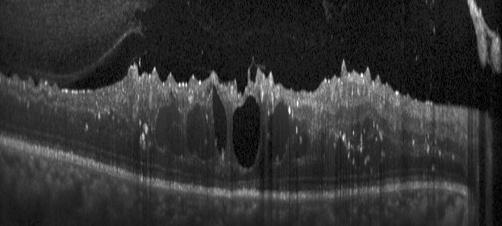intraretinal_cyst: (232, 95, 260, 168), (156, 91, 184, 156), (266, 101, 293, 161), (186, 103, 214, 160), (212, 85, 227, 155), (296, 132, 310, 158), (336, 137, 347, 164), (320, 134, 326, 155)
vitreous_detachment: (2, 29, 144, 77)
